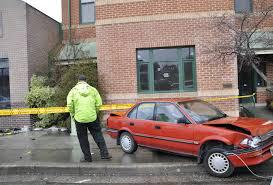bonnet-dent: (209, 113, 270, 133)
front-bumper-dent: (232, 145, 272, 168)
